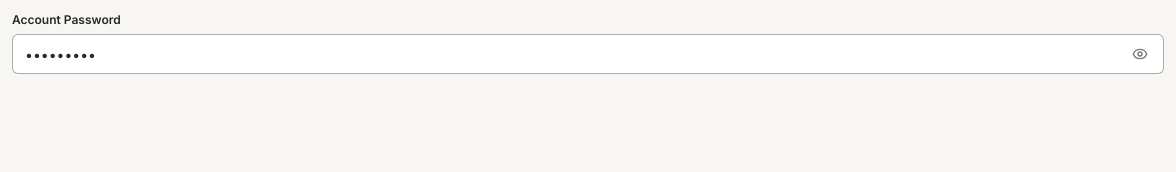
Scenario: UI Design System Components › Form Components › toggles password visibility in PasswordInput
Click the button named "show password": (1140, 54) [1128,42,1152,66]
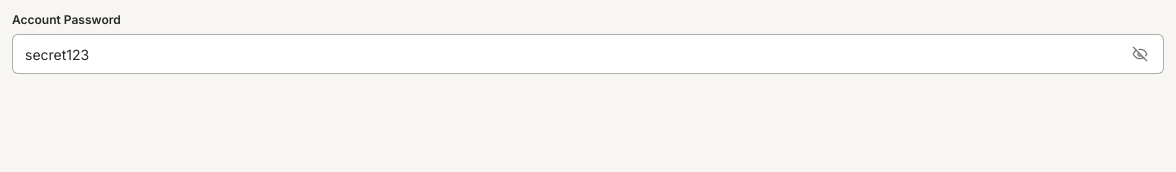
Result: the field labelled "Account Password" shows its text at [12,34,1164,74]
